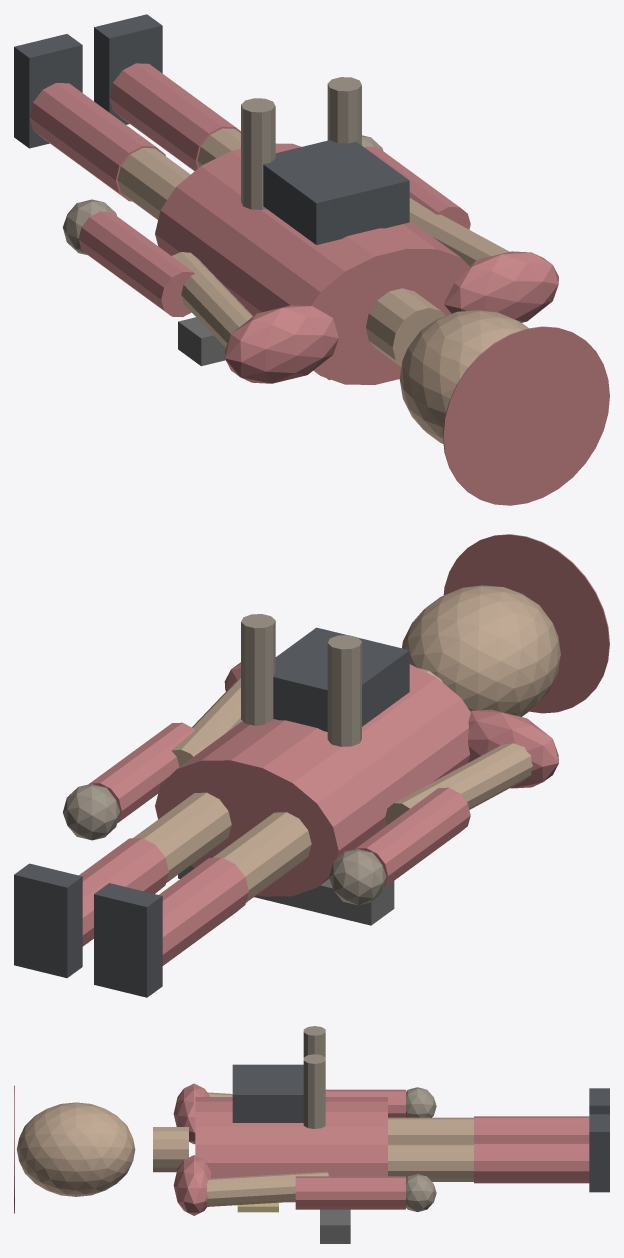
File: SWN-038_renn_skybreaker.glb
3 renders of one model, top to bottom at view 1: azimuth 30°, elevation 25°; view 2: azimuth 150°, elevation 25°; view 3: azimuth 270°, elevation 25°, orthographic. The views are drawn at different scales.
Visible parts, largest first — view 1: body_spine, rank_halo_ring, back_thruster_pack, head, shoulder_plate_-1, greave_-1, greave_1, forearm_gauntlet_-1, shoulder_plate_1, boot_-1, boot_1, neck (+9 smaller); view 2: body_spine, head, rank_halo_ring, back_thruster_pack, boot_-1, boot_1, greave_-1, forearm_gauntlet_-1, thigh_-1, thigh_1, upper_arm_-1, forearm_gauntlet_1 (+8 smaller); view 3: body_spine, head, greave_1, back_thruster_pack, forearm_gauntlet_1, greave_-1, thigh_1, upper_arm_1, thigh_-1, shoulder_plate_1, aether_thruster_1, boot_1 (+9 smaller).
Boxes of the visible parts, x1,y1,x2,y2 form: body_spine: (155, 143, 470, 384); rank_halo_ring: (443, 326, 609, 505); back_thruster_pack: (263, 140, 409, 244); head: (399, 310, 528, 443); shoulder_plate_-1: (224, 305, 339, 383); greave_-1: (29, 83, 165, 201); greave_1: (109, 63, 240, 171); forearm_gauntlet_-1: (78, 211, 194, 317); shoulder_plate_1: (444, 251, 558, 322); boot_-1: (14, 34, 82, 148); boot_1: (94, 14, 162, 124); neck: (366, 288, 445, 366); body_spine: (155, 664, 470, 896); head: (402, 585, 560, 716); rank_halo_ring: (443, 534, 609, 713); back_thruster_pack: (273, 627, 409, 731); boot_-1: (94, 883, 162, 997); boot_1: (14, 863, 82, 977); greave_-1: (159, 857, 248, 965); forearm_gauntlet_-1: (355, 787, 470, 888); thigh_-1: (212, 812, 311, 902); thigh_1: (133, 792, 231, 882); upper_arm_-1: (385, 743, 532, 825); forearm_gauntlet_1: (89, 722, 194, 823); body_spine: (195, 1097, 387, 1202); head: (16, 1102, 135, 1196); greave_1: (474, 1142, 589, 1183); back_thruster_pack: (232, 1064, 303, 1122); forearm_gauntlet_1: (295, 1176, 405, 1209); greave_-1: (474, 1116, 589, 1142); thigh_1: (388, 1143, 473, 1181); upper_arm_1: (206, 1171, 328, 1206); thigh_-1: (388, 1117, 473, 1143); shoulder_plate_1: (173, 1155, 212, 1215); aether_thruster_1: (303, 1054, 325, 1128); boot_1: (589, 1114, 609, 1192).
Size of the model in its own units: 1 by 0.72 by 2.32.
